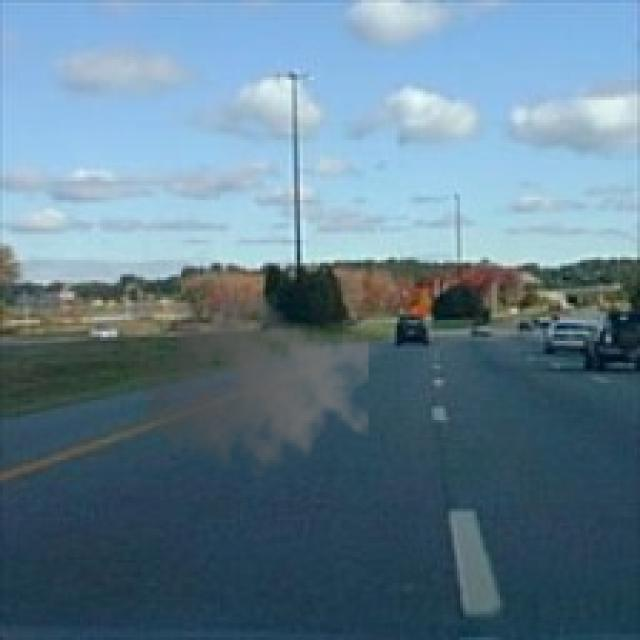Smoke: (137, 283, 369, 492)
